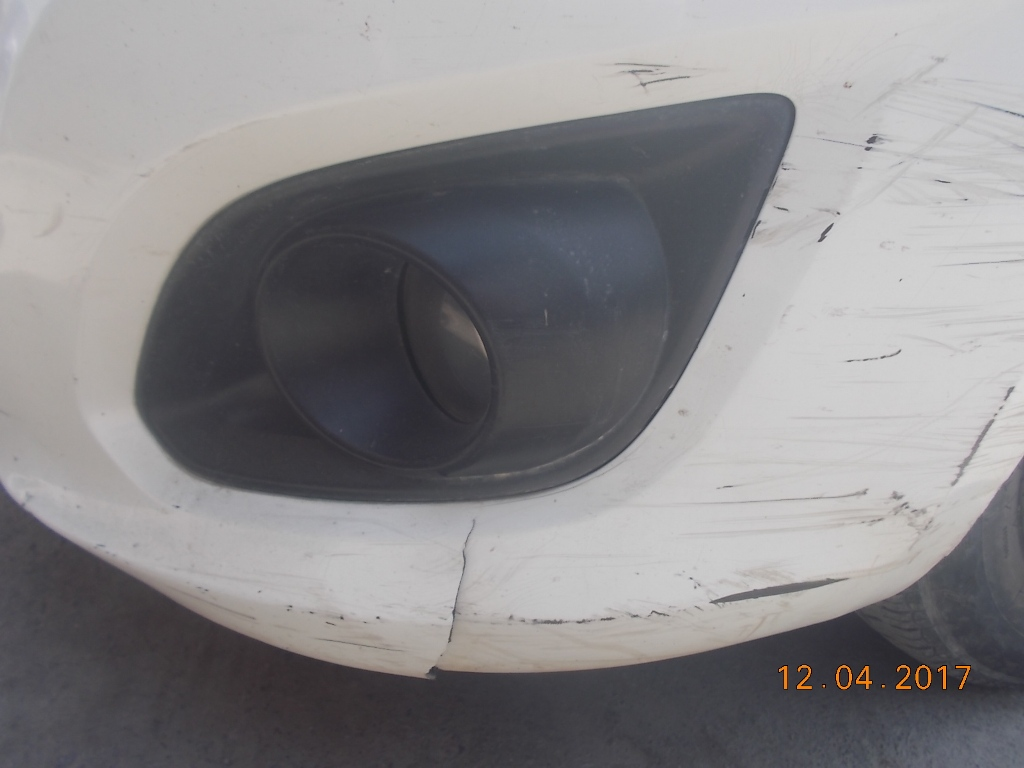Tear: (426, 521, 488, 665)
